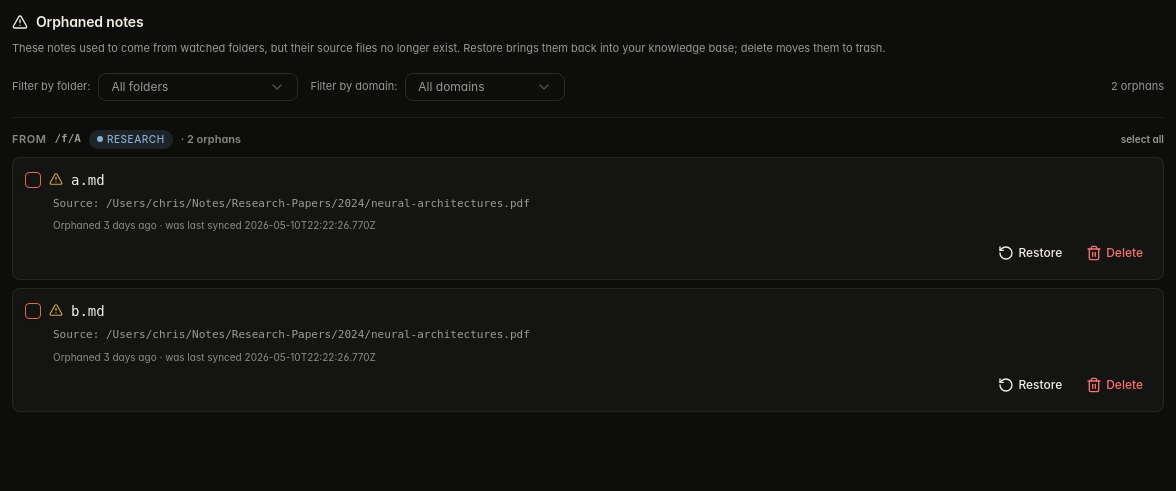
Test: PanelOrphans — bulk actions › 'Clear selection' empties the selection state
expect the number of list items with test id "orphan-row" is 2: met, box [12,156,1164,280]; [12,288,1164,412]
Click the button with test id "orphan-group-select-all-/f/A" at (1142, 139), box [1121,132,1164,146]
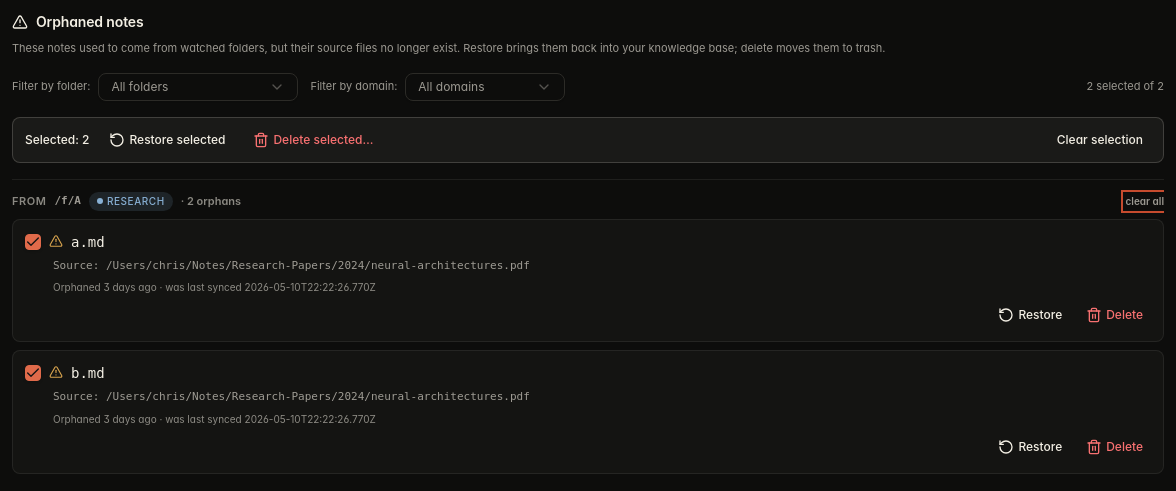
expect the element with test id "orphans-bulk-bar" shows "Selected: 2": met, box [12,116,1164,162]
Click the button with test id "orphans-bulk-clear" at (1100, 140), box [1049,126,1151,154]
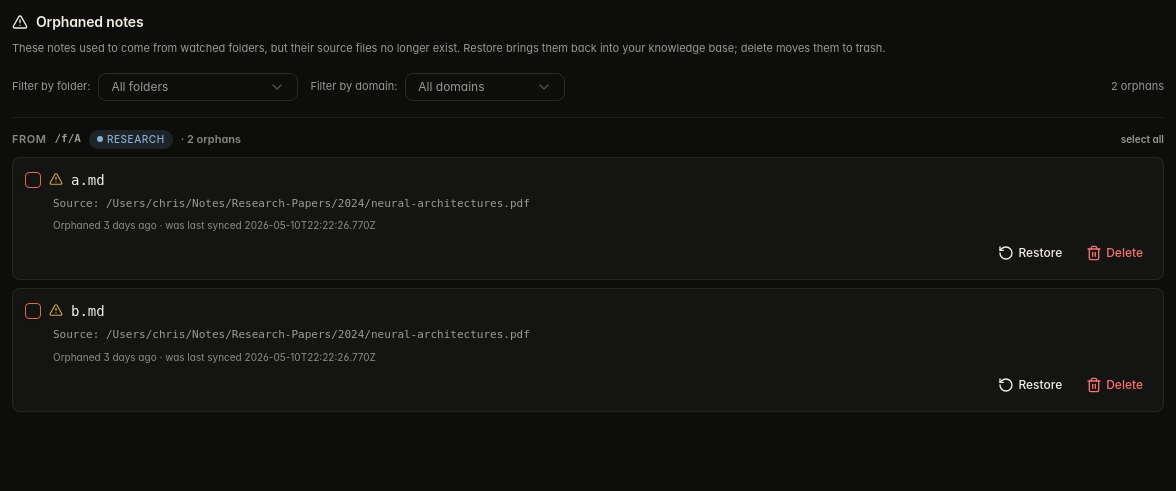
expect the element with test id "orphans-bulk-bar" is gone: met
